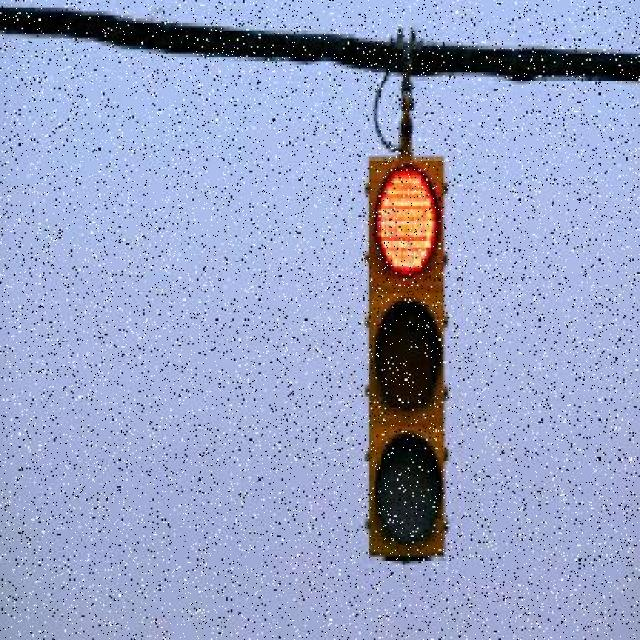red-light: (354, 143, 480, 569)
